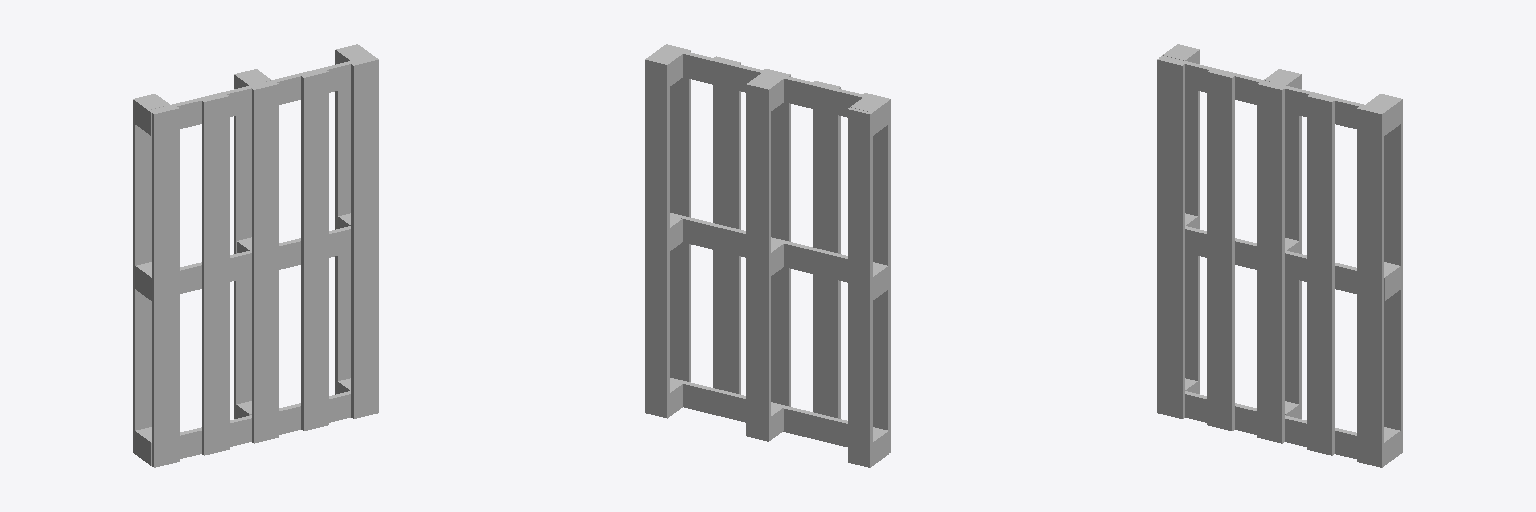
Rendered from pallet_obj.obj.
The picture shows the model from 3 angles: view 1: azimuth 30°, elevation 25°; view 2: azimuth 150°, elevation 25°; view 3: azimuth 330°, elevation 25°; orthographic projection.
Visible parts, largest first — view 1: Object004; view 2: Object004; view 3: Object004.
Boxes of the visible parts, x1=… form: Object004: x1=133, y1=44, x2=378, y2=467; Object004: x1=645, y1=44, x2=890, y2=467; Object004: x1=1157, y1=44, x2=1402, y2=467.
Size of the model in its own units: 80.1 by 120 by 13.